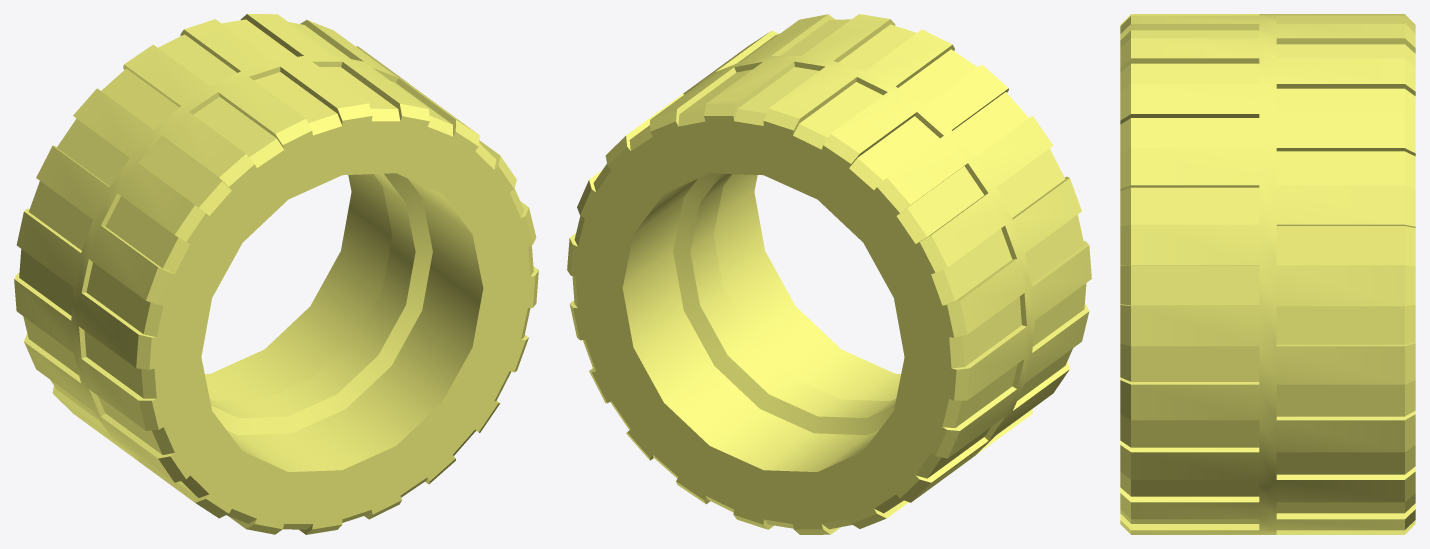
3 views of the same model, side by side, from view 1: azimuth 30°, elevation 25°; view 2: azimuth 150°, elevation 25°; view 3: azimuth 270°, elevation 25° (orthographic). The views are drawn at different scales.
Visible parts, largest first — view 1: 89201.dat; view 2: 89201.dat; view 3: 89201.dat.
Boxes of the visible parts, <box> form: 89201.dat: <box>14,14,538,534</box>; 89201.dat: <box>567,14,1091,534</box>; 89201.dat: <box>1120,14,1415,534</box>.
Bounding box in the file's own units: 0.024 × 0.024 × 0.0136.
